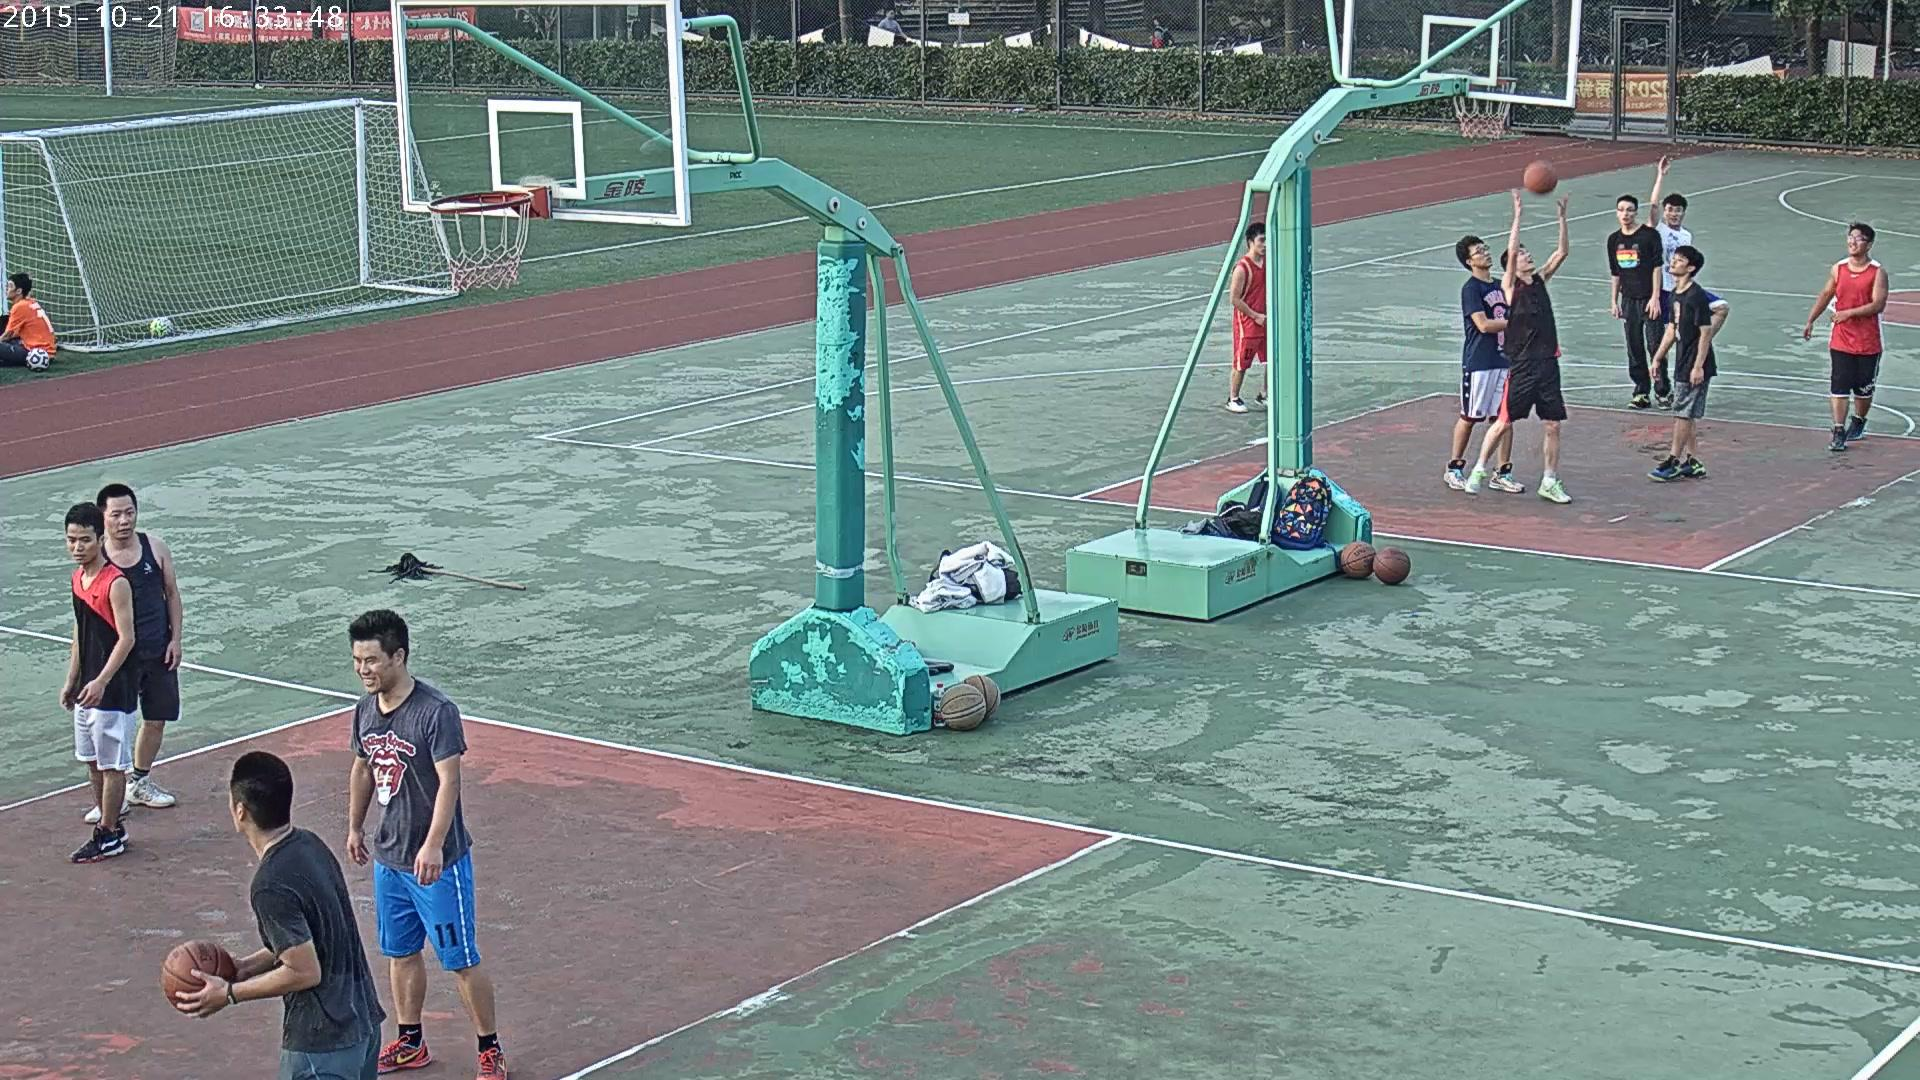face: (351, 639, 394, 692), (65, 523, 96, 564), (104, 496, 135, 537), (1468, 242, 1493, 267), (226, 789, 237, 833), (1670, 252, 1689, 275), (1517, 246, 1536, 270), (1847, 229, 1866, 255), (1618, 200, 1636, 224), (1666, 204, 1680, 226), (1254, 235, 1266, 257), (5, 279, 16, 300), (887, 10, 895, 18)
